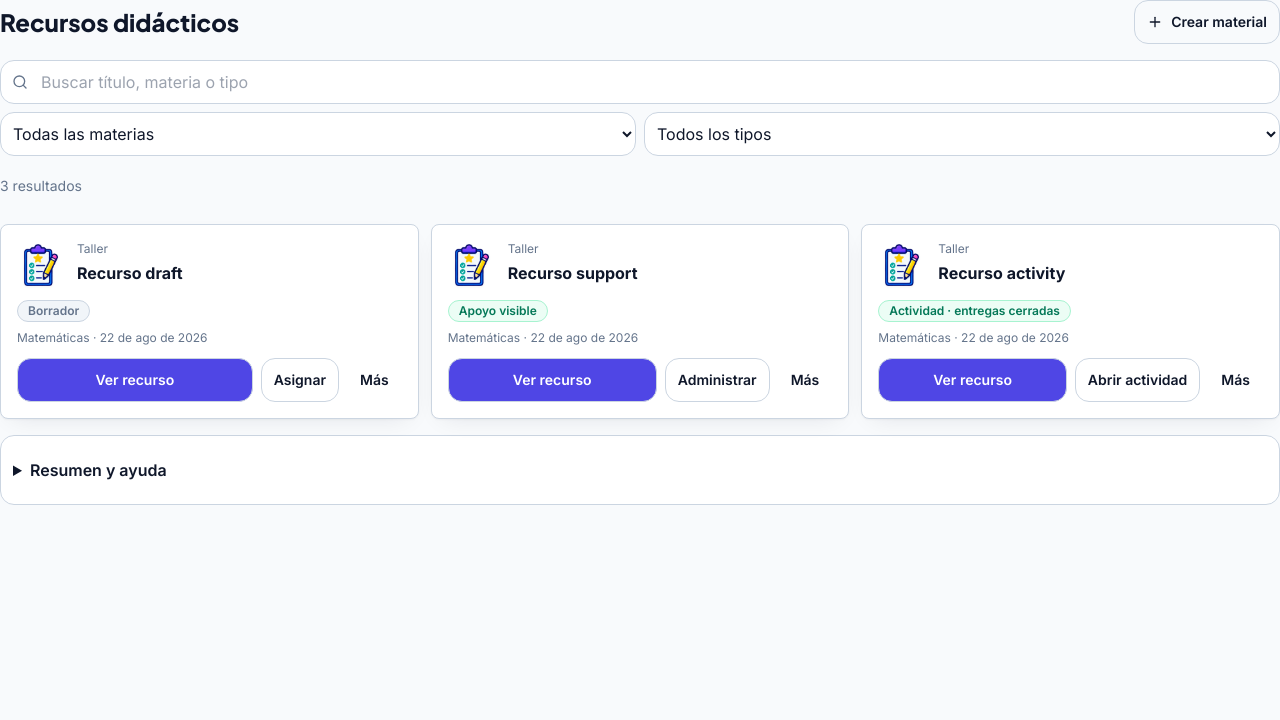
resource library lifecycle › filters locally and keeps occasional actions in an accessible menu
The image size is (1280, 720).
Expected: the link "Recurso draft" is shown, [77,263,183,283]
Type "support" into the search field named "Buscar recursos" at (640, 82), box [0,60,1279,104]
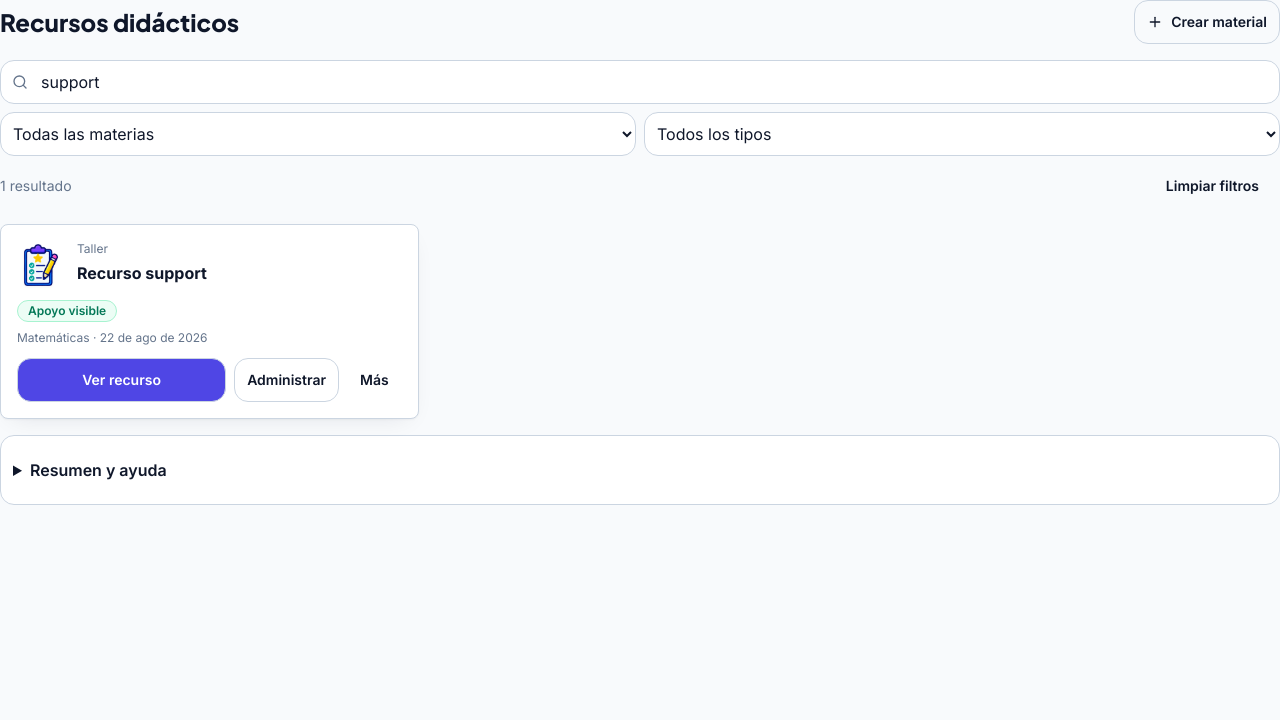
Expected: the link "Recurso support" is shown, [77,263,207,283]
Now the link "Recurso draft" is gone
Now the text "1 resultado" is shown, box [0,176,72,196]
Click the button with aria-label "Más opciones para Recurso support" at (374, 380), box [347,358,402,402]
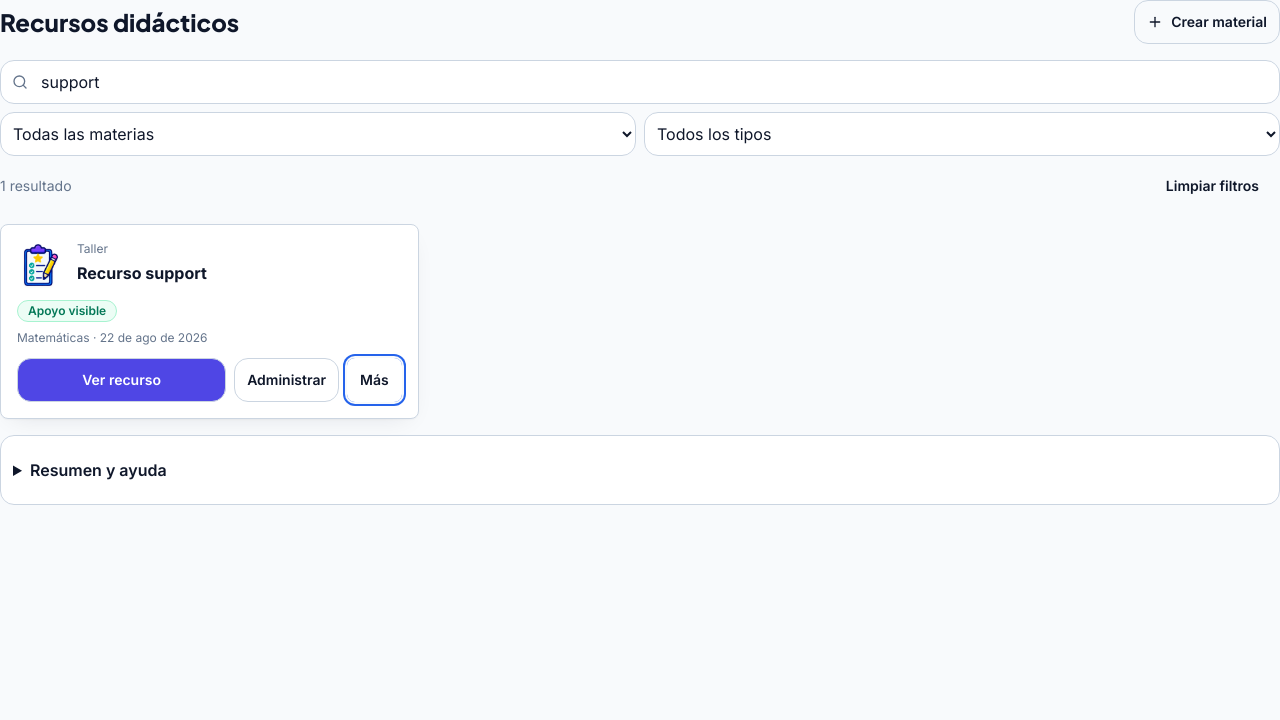
Press Escape
Select "Sin materia" in the dropdown named "Materia" at (318, 134), box [0,112,636,156]
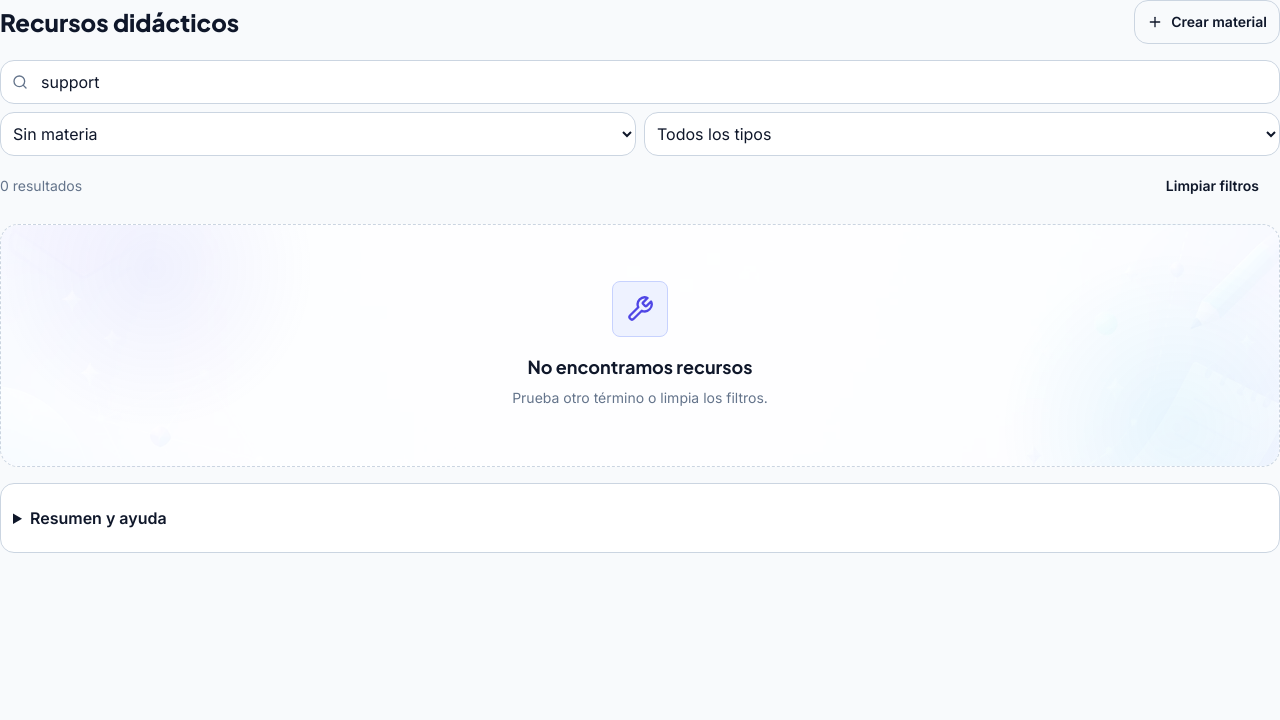
Now the heading "No encontramos recursos" is shown, box [528,353,753,381]
Click the button "Limpiar filtros" at (1212, 186), box [1145,164,1279,208]
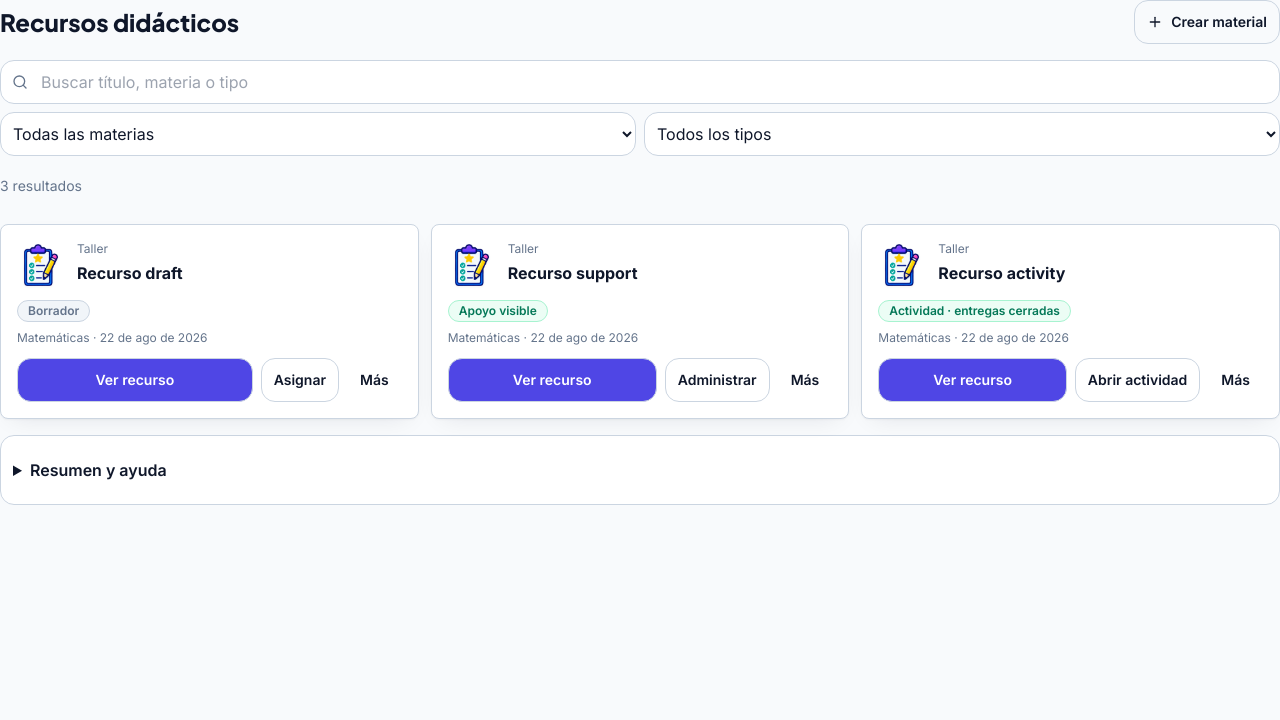
Now the number of links "Ver recurso" is 3, box [17,358,253,402]; [448,358,657,402]; [878,358,1067,402]
